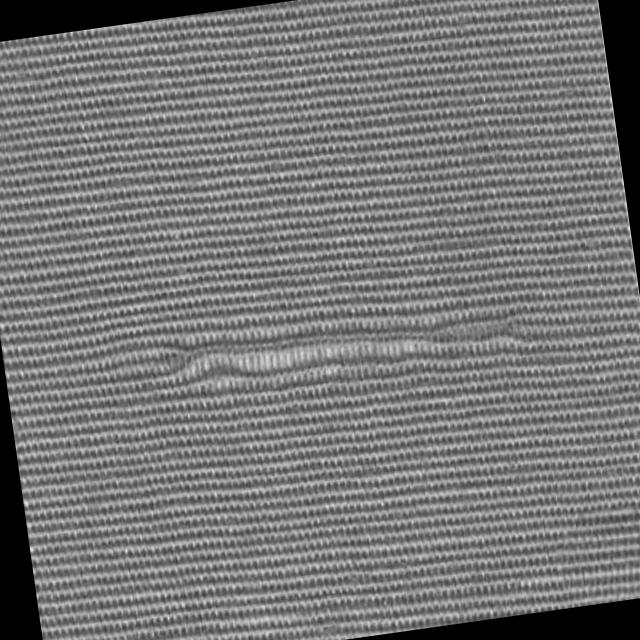Warp_Weft: (161, 304, 523, 404)
